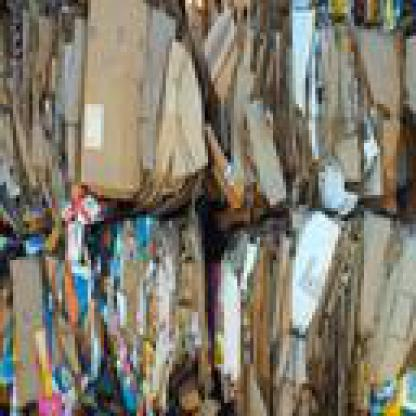CARDBOARD: (0, 0, 413, 413), (289, 0, 413, 205), (101, 205, 211, 413), (3, 224, 114, 413), (201, 0, 299, 205), (0, 0, 81, 224), (338, 198, 413, 413), (273, 202, 341, 413), (78, 0, 143, 202), (146, 0, 205, 202), (211, 221, 273, 413)
